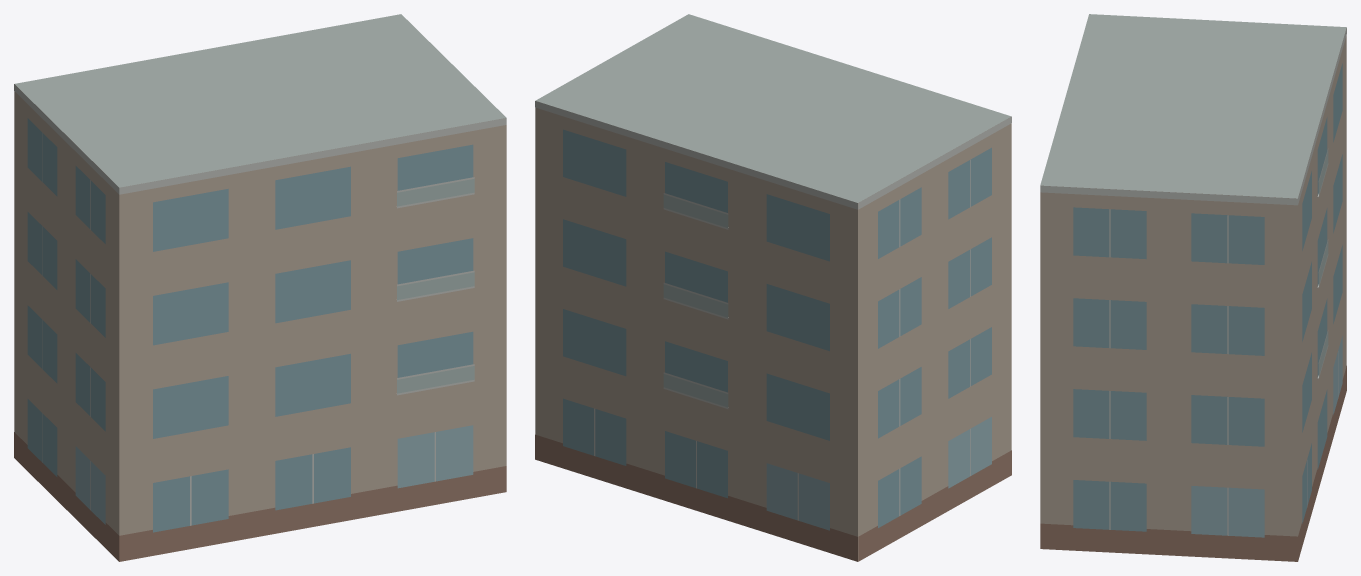
File: survey-upis-32812980.glb
The picture shows the model from 3 angles, left to right: view 1: azimuth 30°, elevation 25°; view 2: azimuth 150°, elevation 25°; view 3: azimuth 270°, elevation 25°; orthographic projection. The views are drawn at different scales.
Parts seen in each view (by area): view 1: survey-upis-32812980.tmp; view 2: survey-upis-32812980.tmp; view 3: survey-upis-32812980.tmp.
Boxes of the visible parts, x1=… form: survey-upis-32812980.tmp: x1=14, y1=14, x2=506, y2=561; survey-upis-32812980.tmp: x1=535, y1=14, x2=1011, y2=561; survey-upis-32812980.tmp: x1=1040, y1=14, x2=1346, y2=561.
Bounding box in the file's own units: 14.17 × 13 × 9.95.
